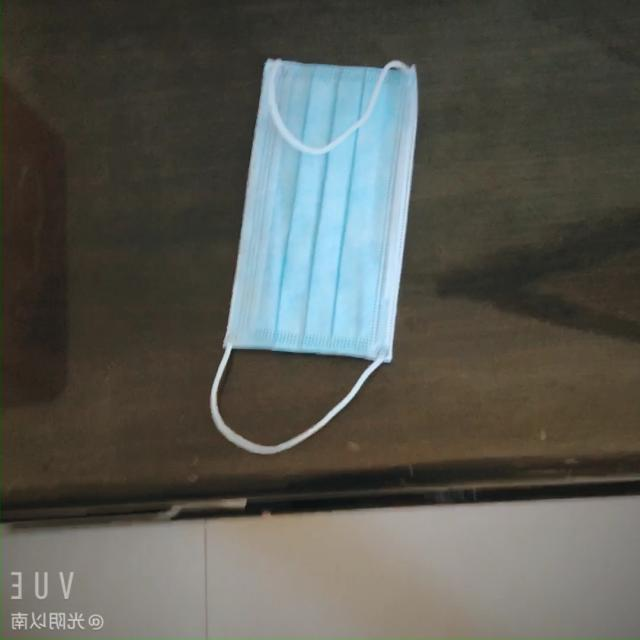face mask: (222, 58, 428, 368)
